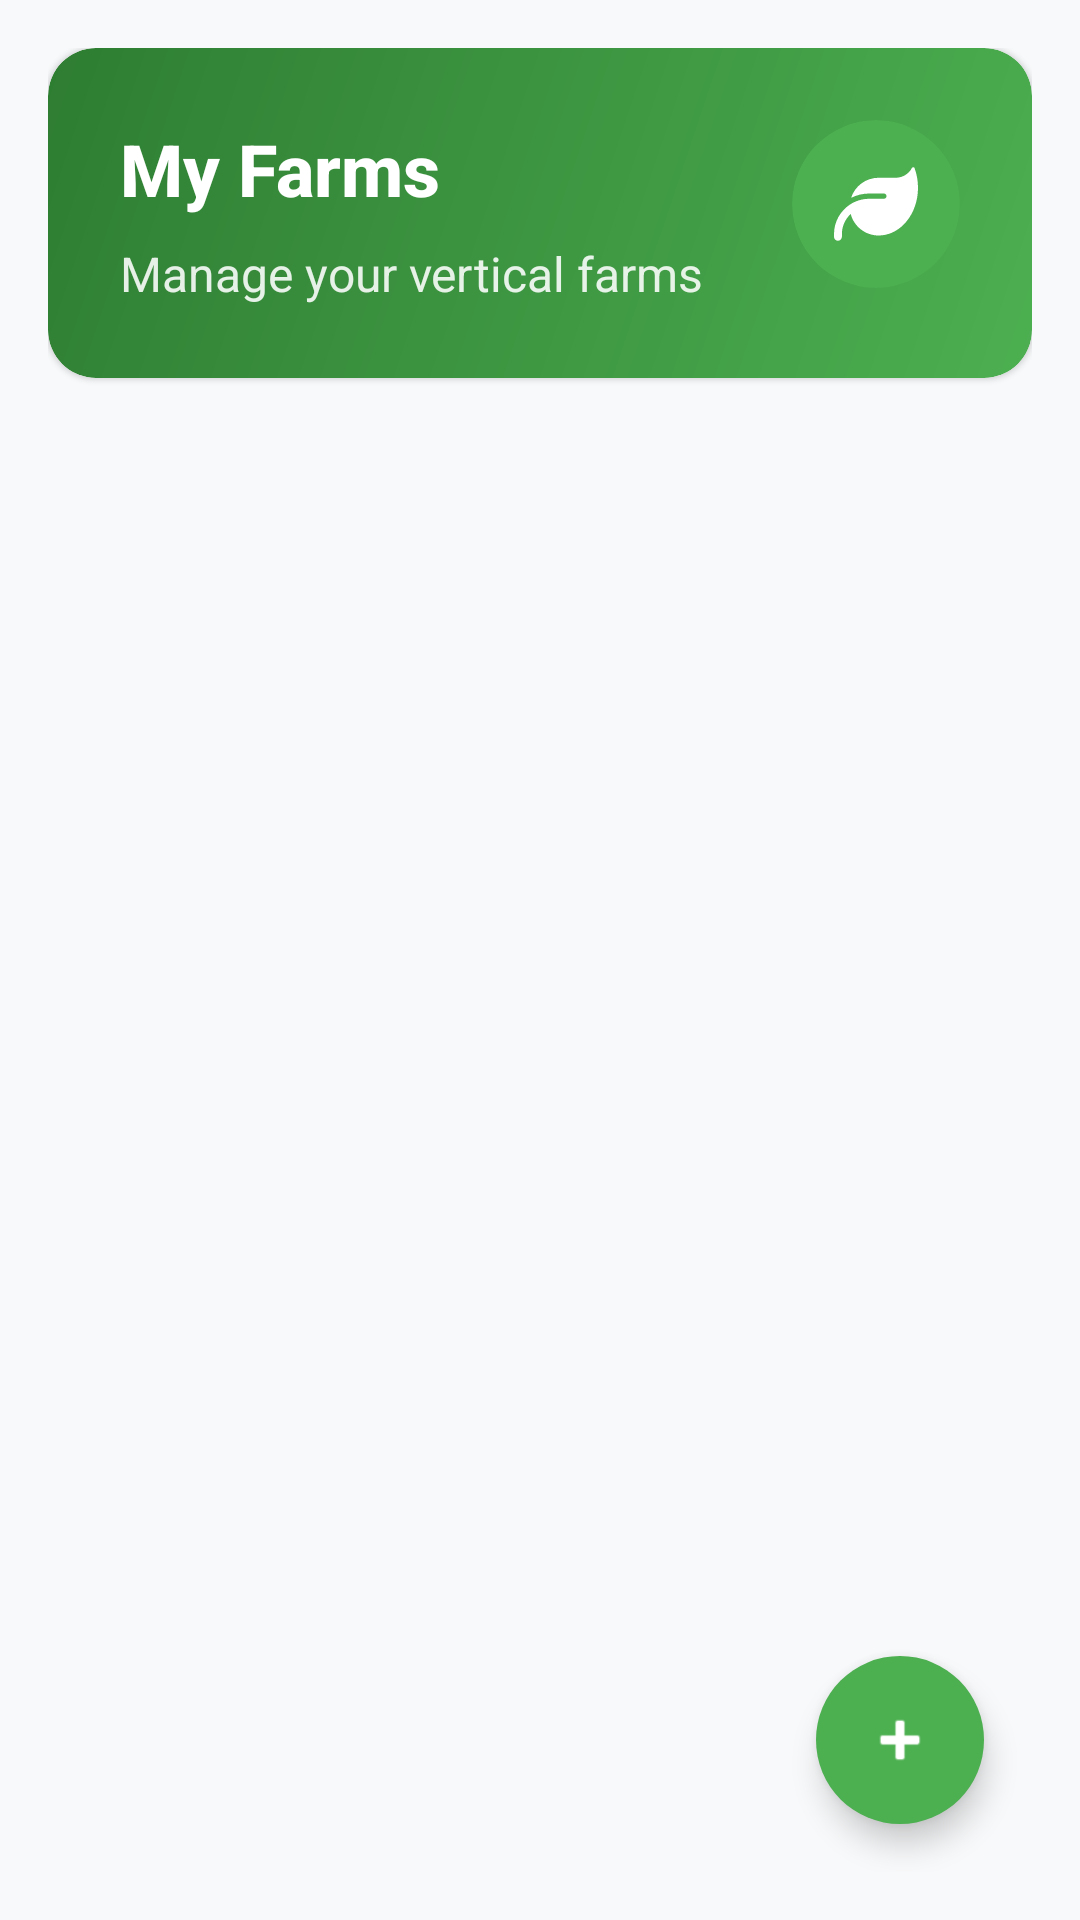

Where to tap for icons on this 1080 x 1920 app screen, as [x,y]:
Add Farm: [900,1740]
